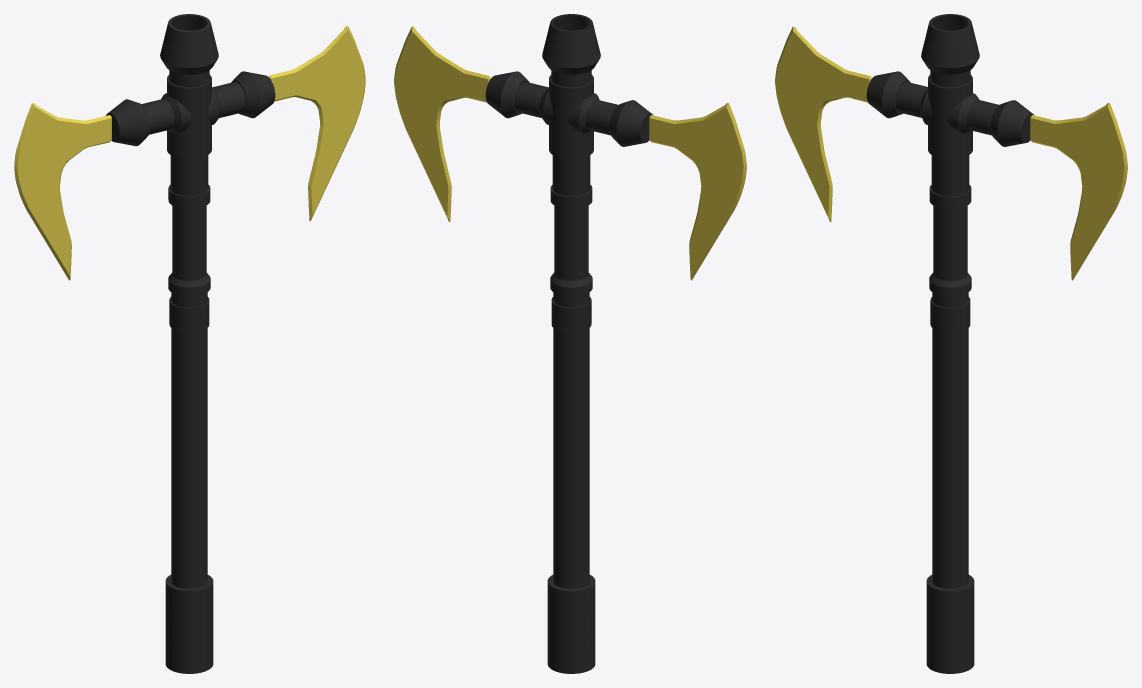
Rendered from double-axe.fbx.
The picture shows the model from 3 angles, left to right: view 1: azimuth 30°, elevation 25°; view 2: azimuth 150°, elevation 25°; view 3: azimuth 330°, elevation 25°; orthographic projection.
Visible parts, largest first — view 1: Cylinder.004; view 2: Cylinder.004; view 3: Cylinder.004.
Part boxes in pixels (<box>): Cylinder.004: <box>14,14,365,673</box>; Cylinder.004: <box>394,14,746,673</box>; Cylinder.004: <box>775,14,1127,673</box>.
Size of the model in its own units: 1.01 by 1.75 by 0.1458.
